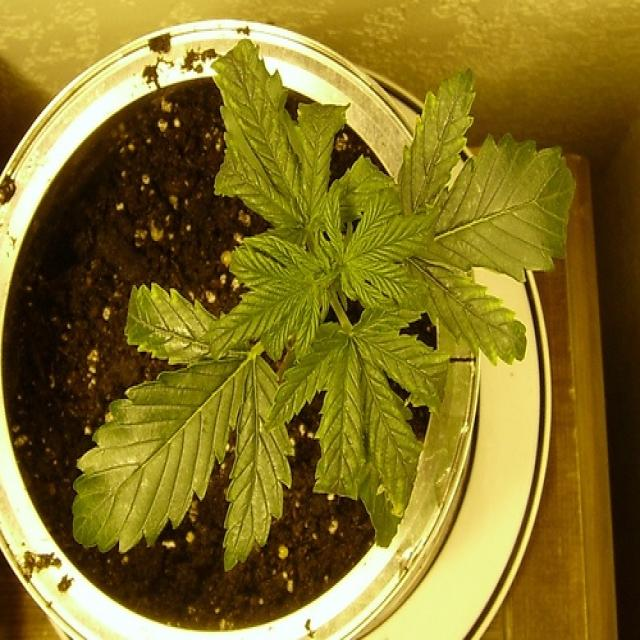pottedplant: (5, 13, 565, 630)
